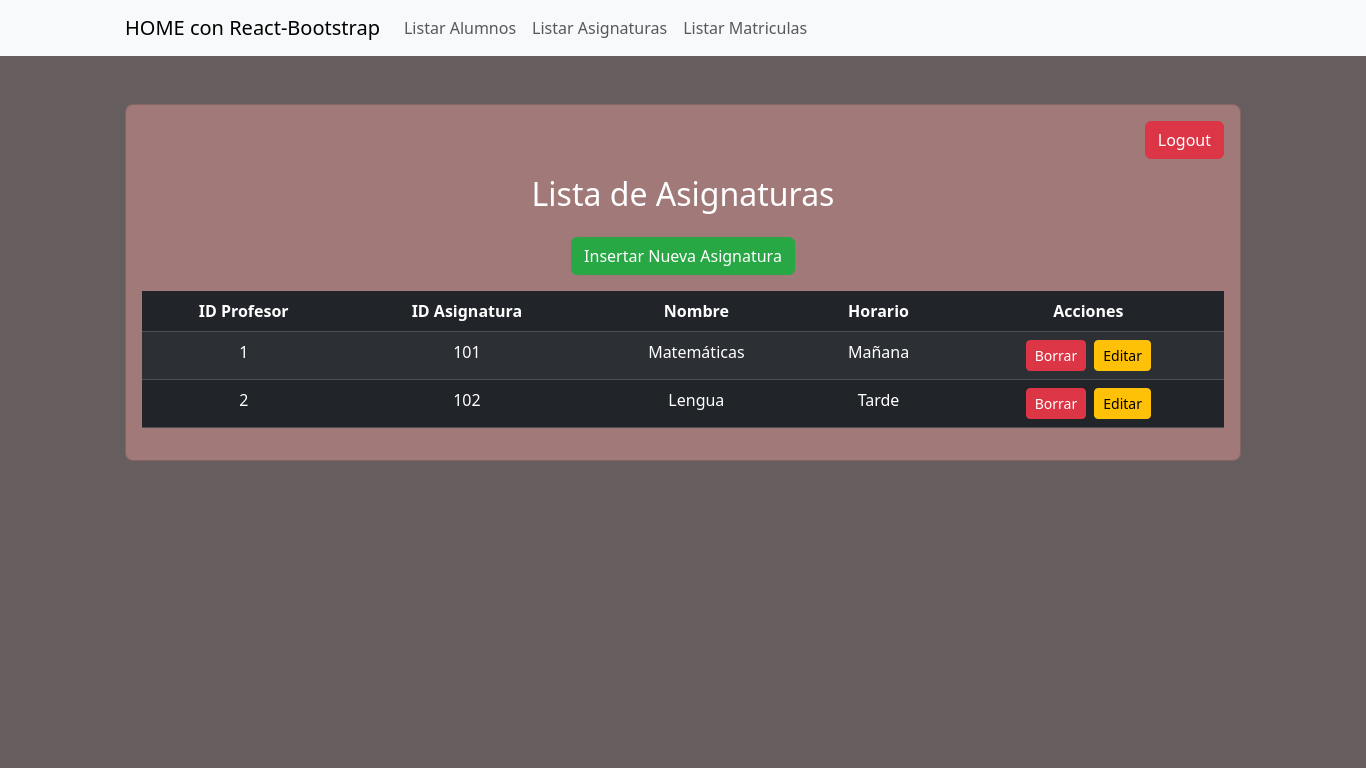
Test: Asignaturas › abrir el formulario de inserción al pulsar el botón
Click the button "Insertar Nueva Asignatura" at [683, 256], box [571, 237, 795, 275]
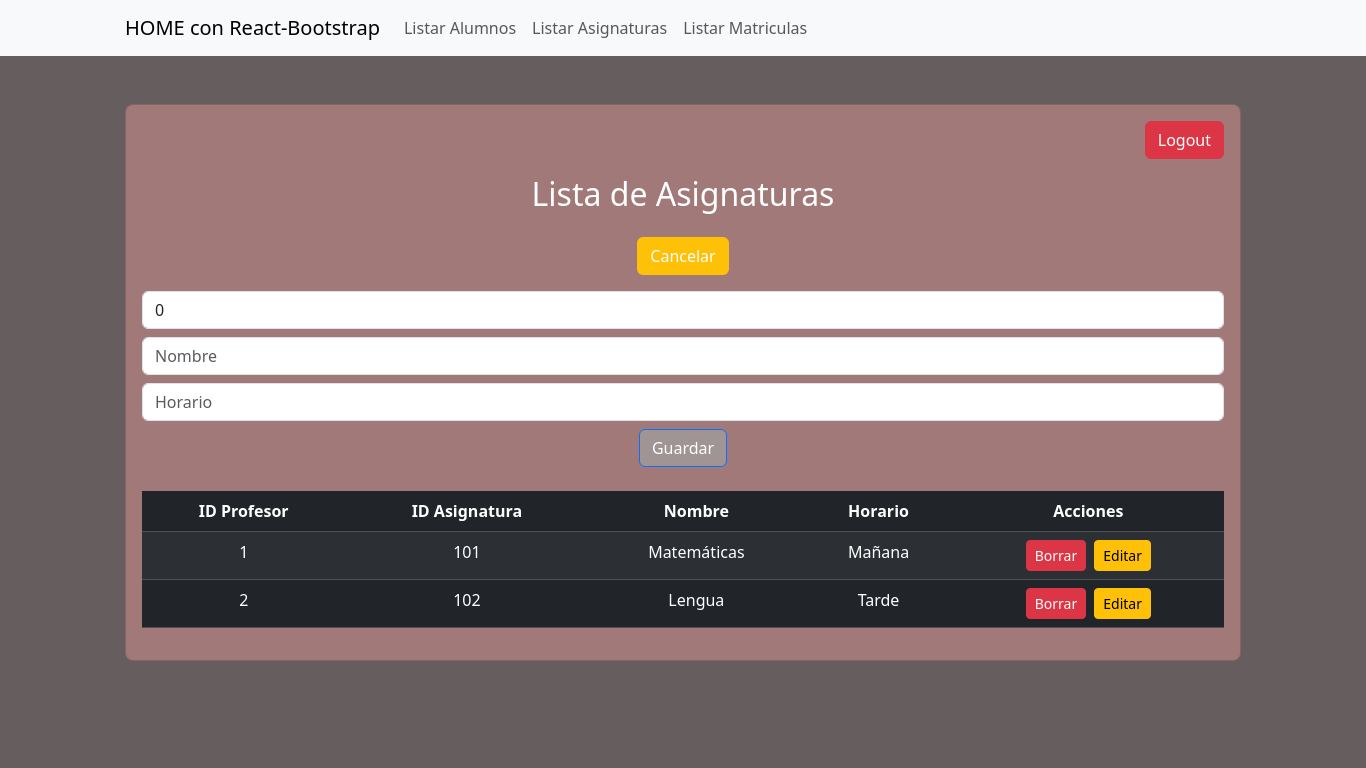
Expected: the number field named "id_profesor" is shown, [142, 291, 1224, 329]
Expected: the field named "nombre_asignatura" is shown, [142, 337, 1224, 375]
Expected: the button "Guardar" is shown, [639, 429, 727, 467]
